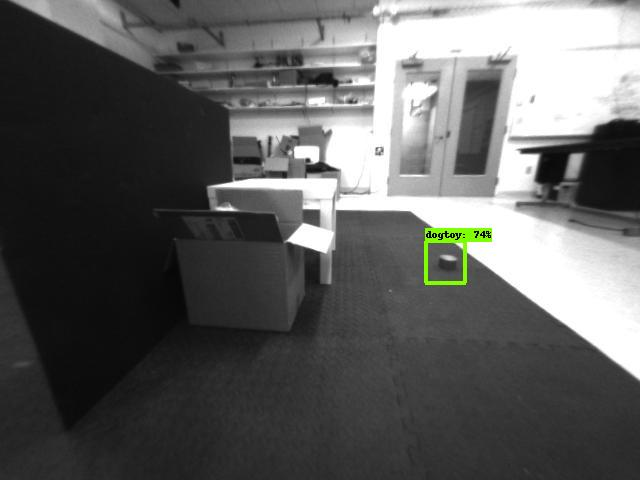dogtoy: (427, 243, 468, 279)
